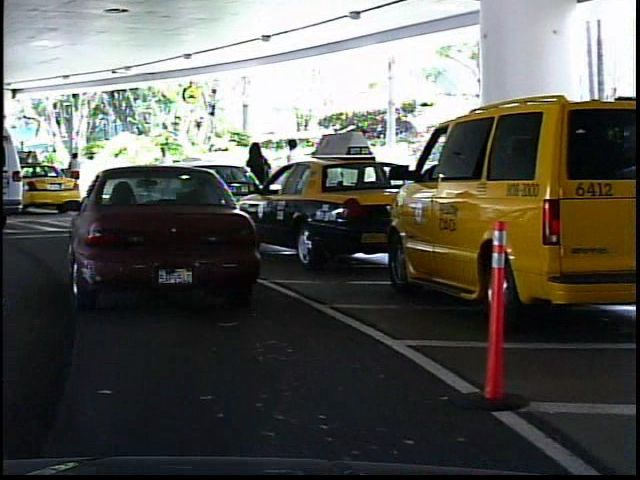person: (242, 137, 277, 219), (278, 134, 308, 211), (151, 142, 176, 204), (62, 150, 85, 196)
